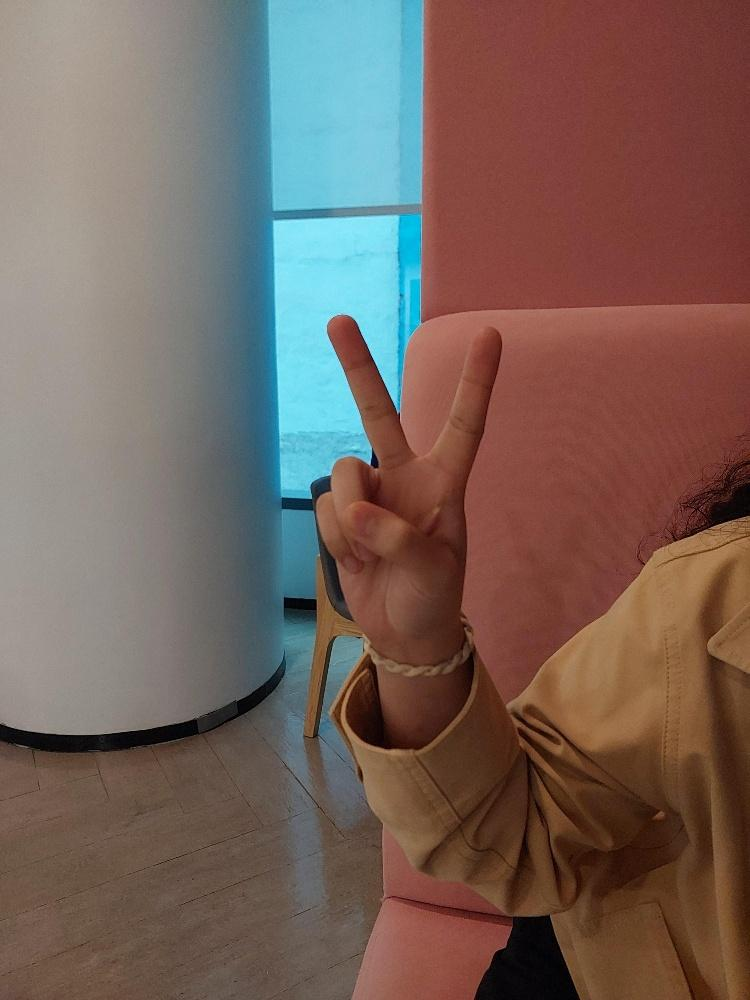v: (305, 305, 513, 660)
